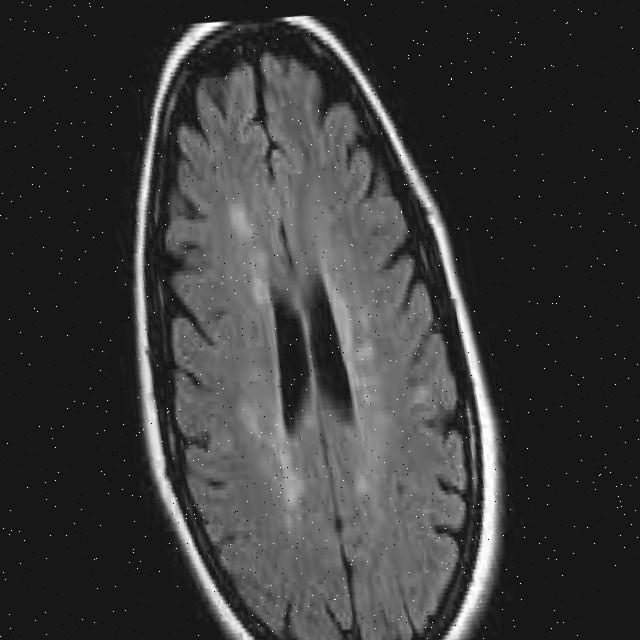NoTumor: (110, 18, 505, 640)
